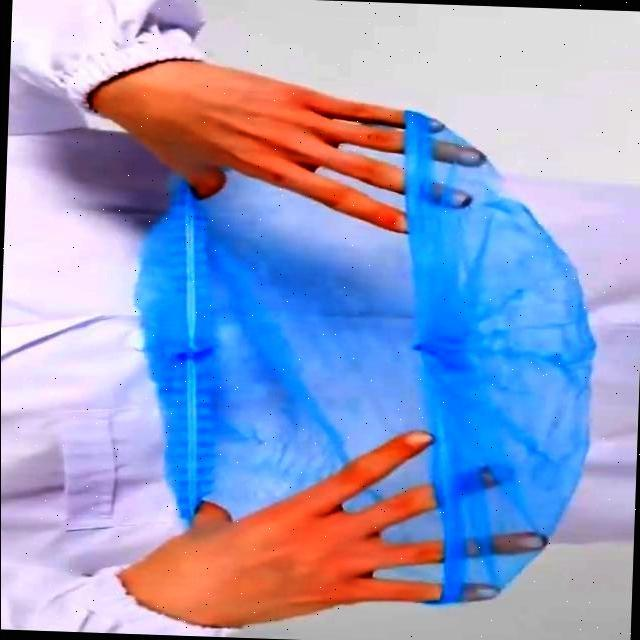no_apron: (149, 420, 546, 636), (106, 49, 486, 249)
